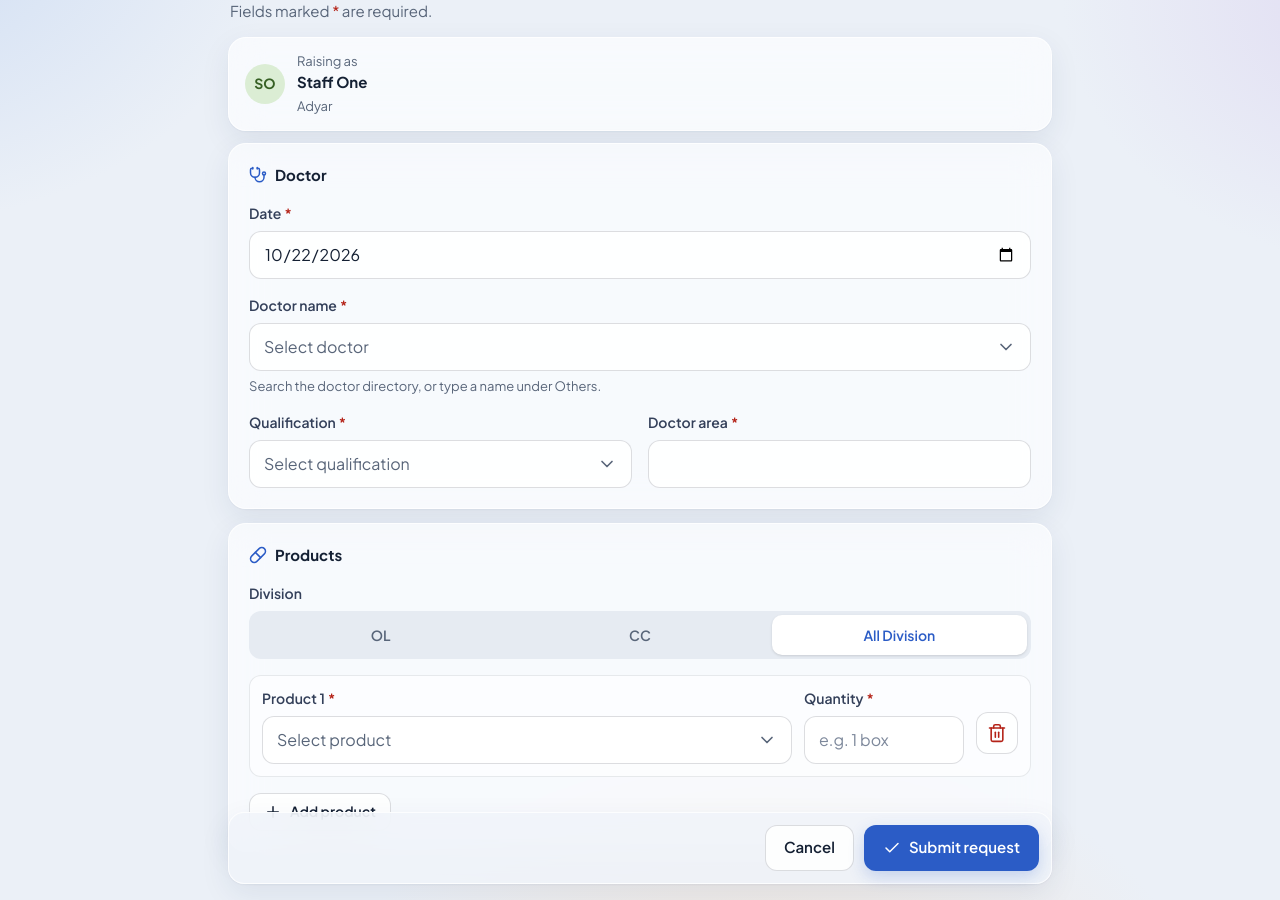
Scenario: Starter pack form › asks before clearing filled rows when the division changes
Step 1. Click the radio button labelled "OL" → [381, 634], box [253,614,508,654]
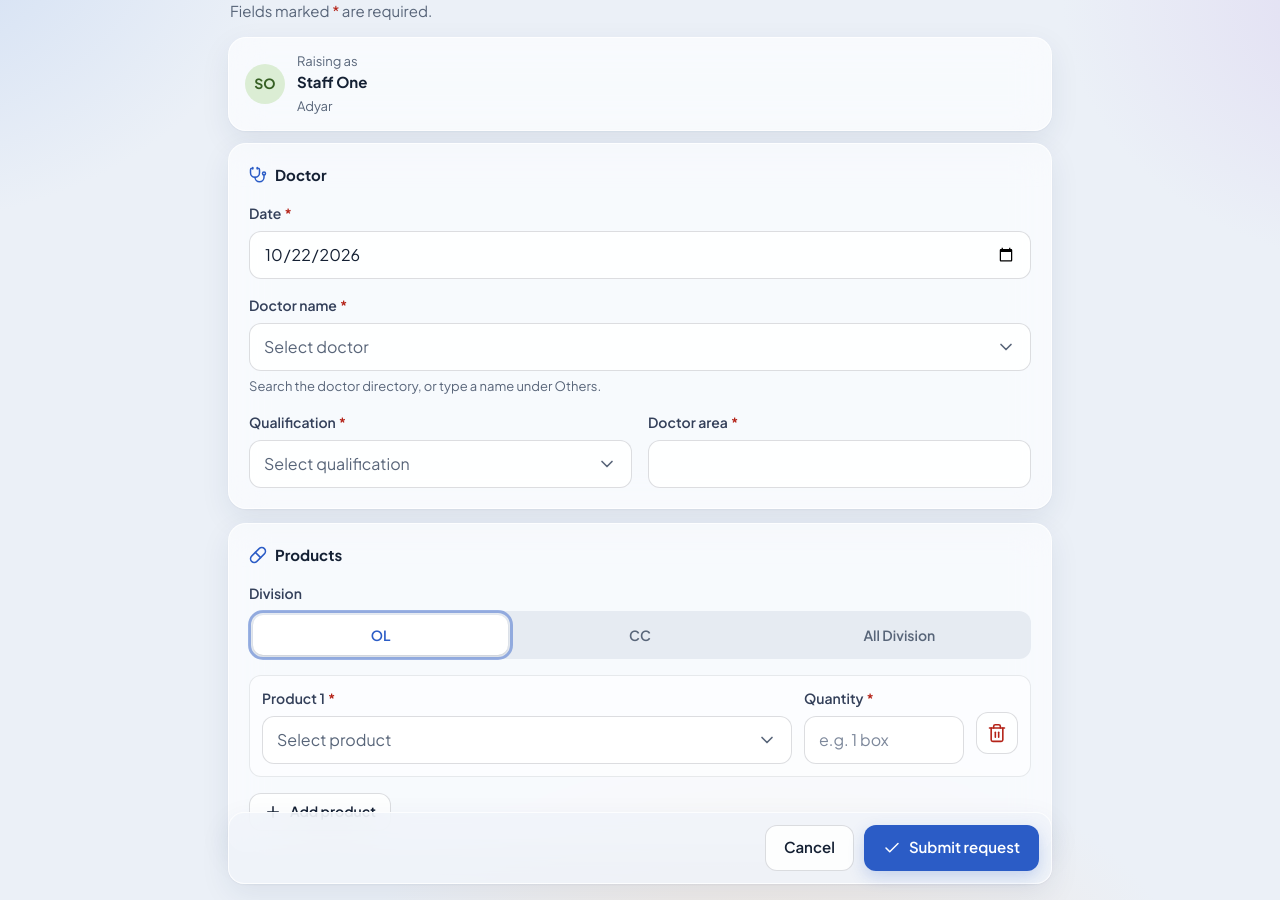
Step 2. Type "2 boxes" into the field labelled "Quantity*" → [884, 740], box [804,716,964,764]
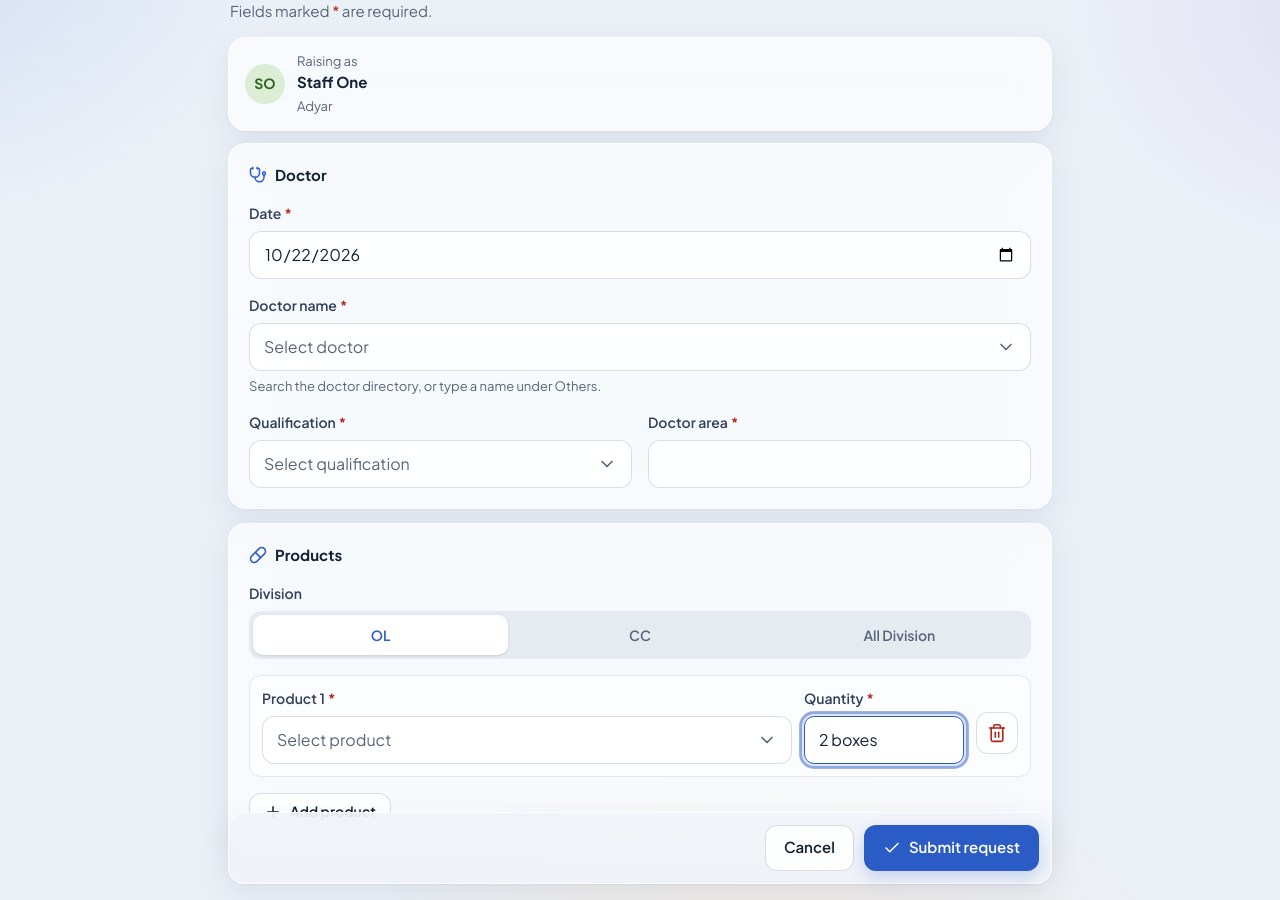
Step 3. Click the radio button labelled "CC" → [640, 634], box [512,614,768,654]
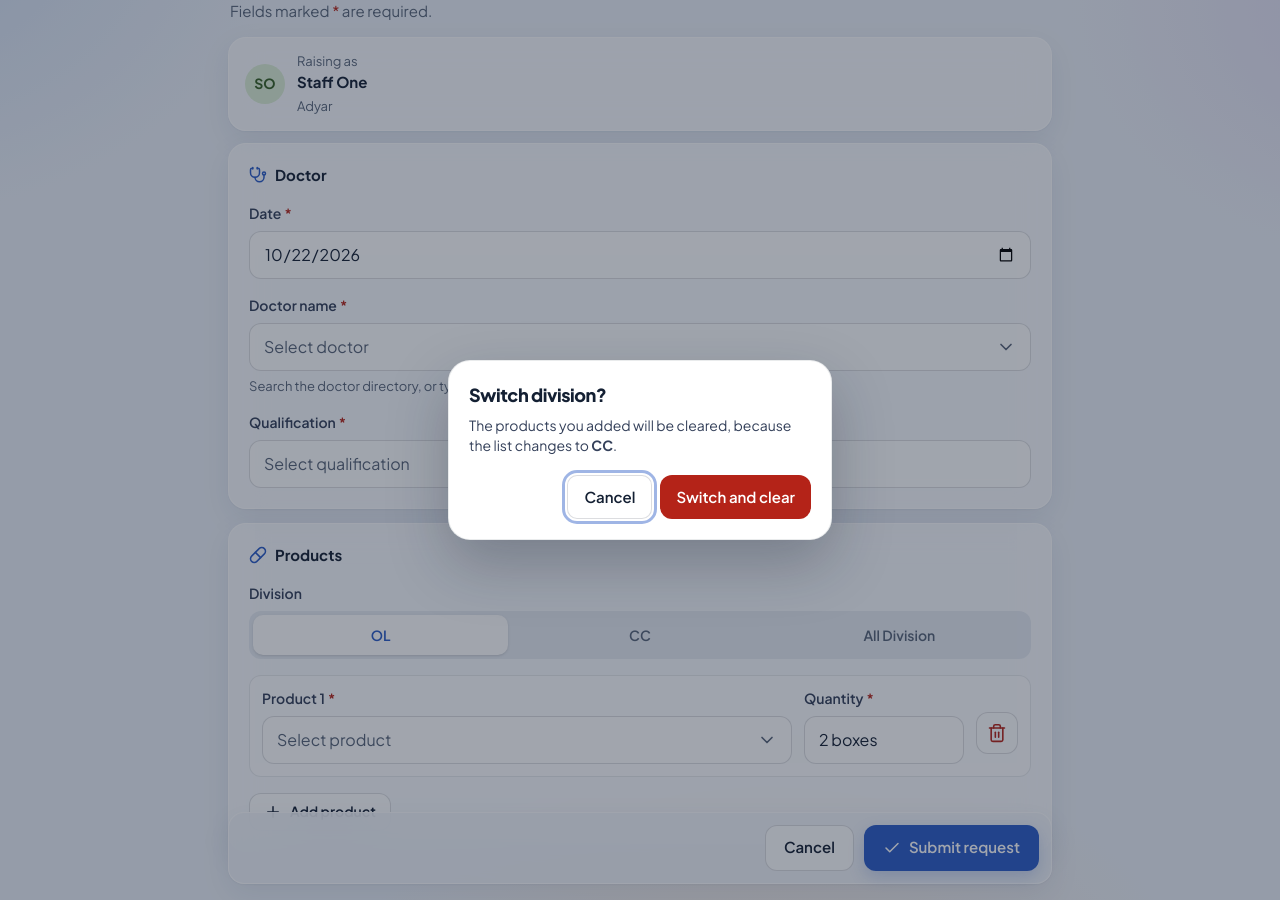
Result: the dialog "Switch division?" is shown at [448,360,832,540]
Step 4. Click the button "Switch and clear" → [736, 497], box [660,475,811,519]
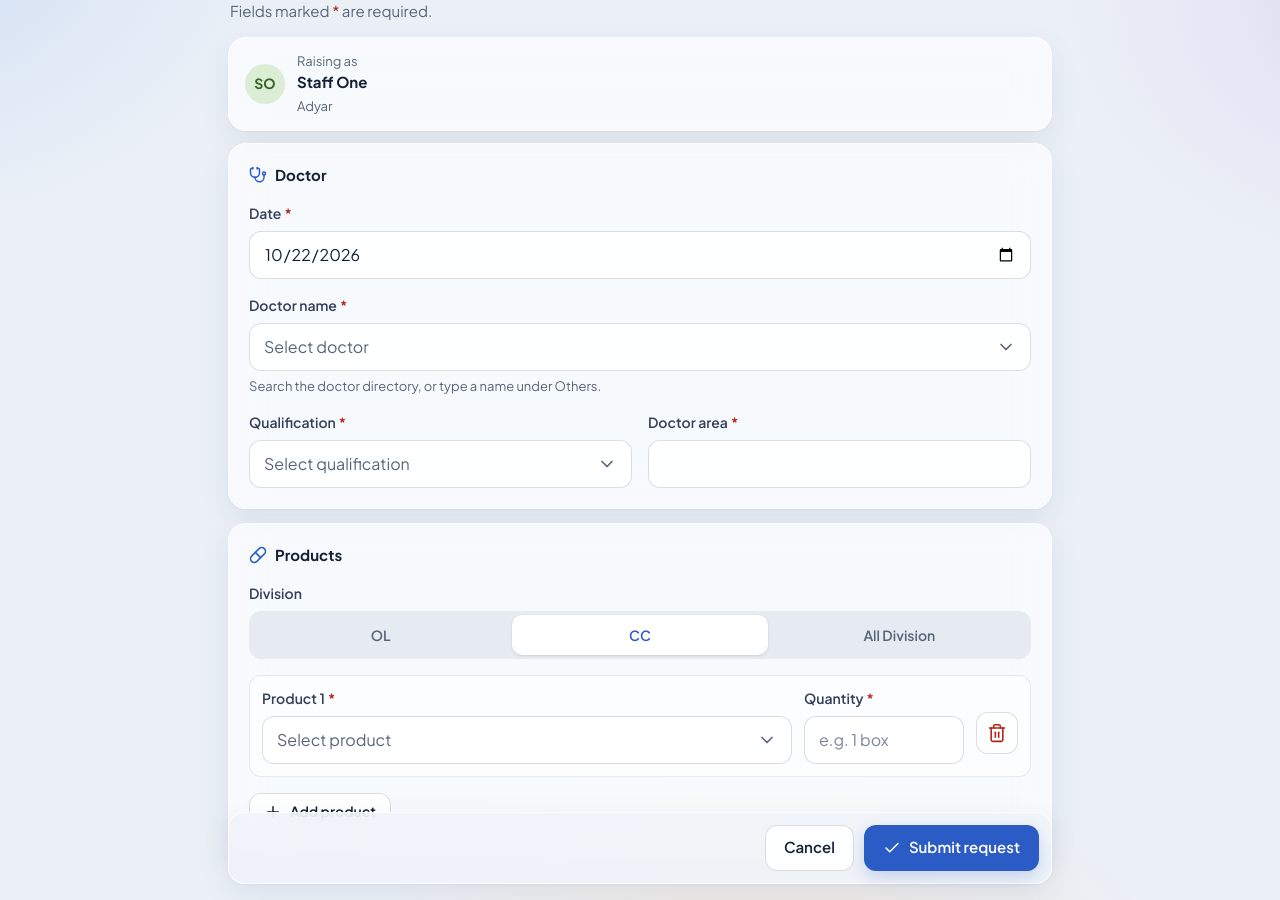
Result: the field labelled "Quantity*" is empty at [804,716,964,764]
